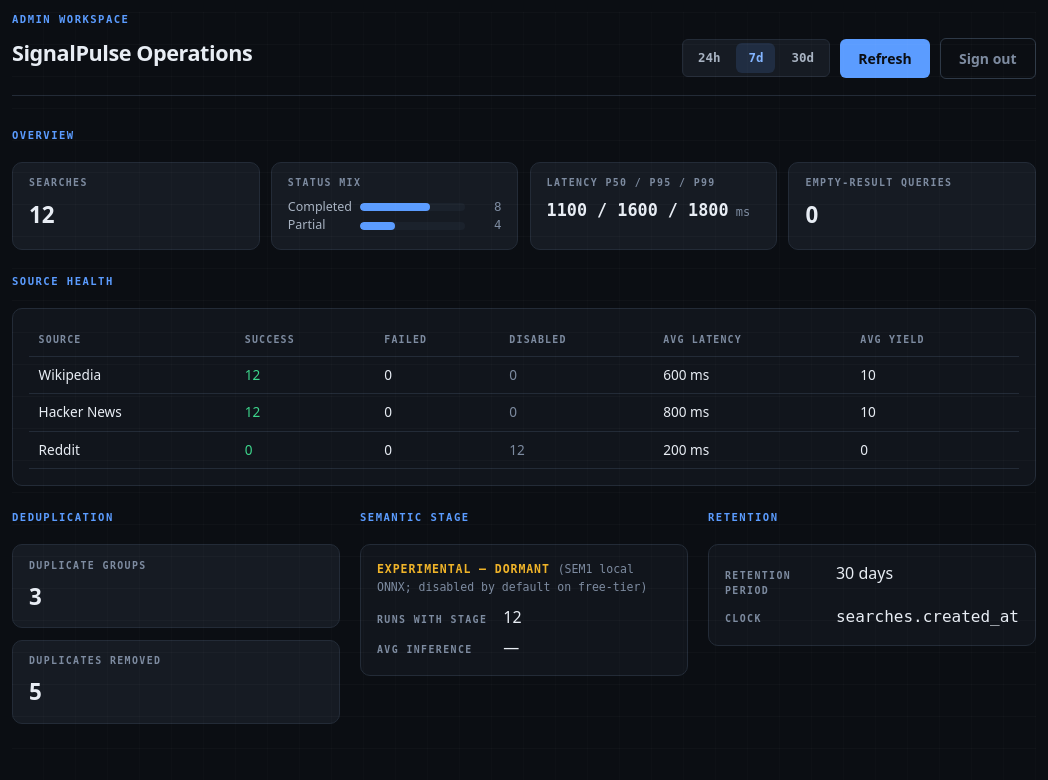
Test case: AdminDashboard › logs out and returns to the login gate
Expected: the text "Source Health" is shown, [12, 275, 114, 287]
Click the button "Sign out" at (988, 58), box [940, 38, 1036, 79]
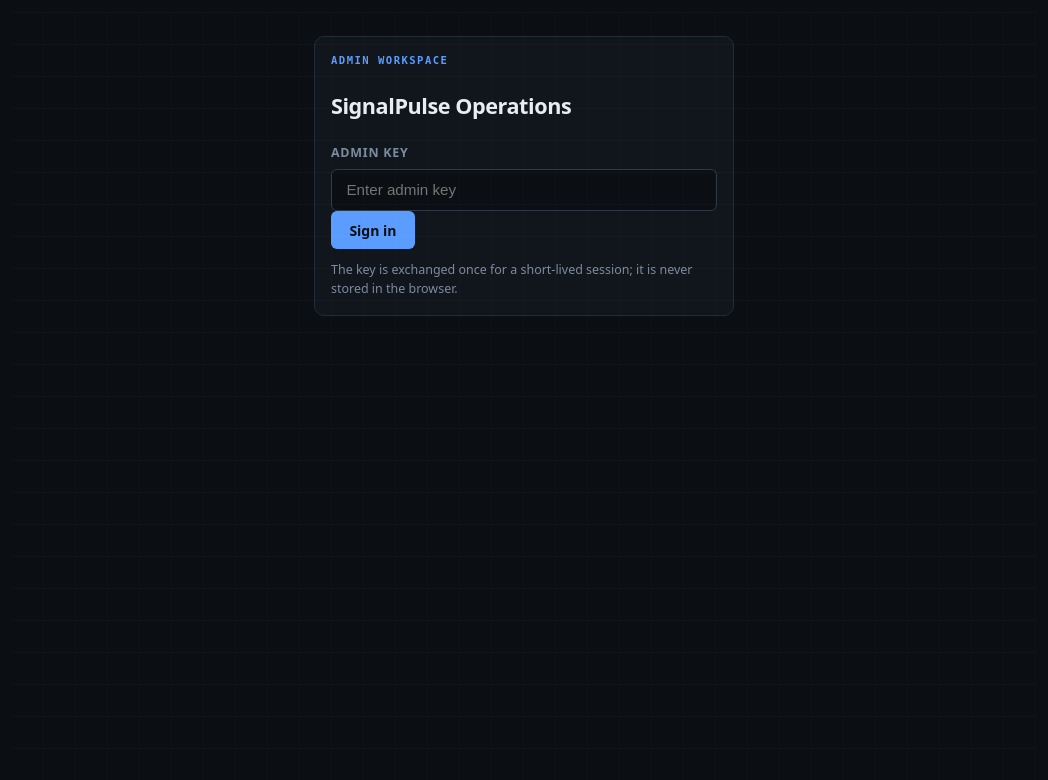
Expected: the password field labelled "Admin key" is shown, [331, 169, 717, 211]
